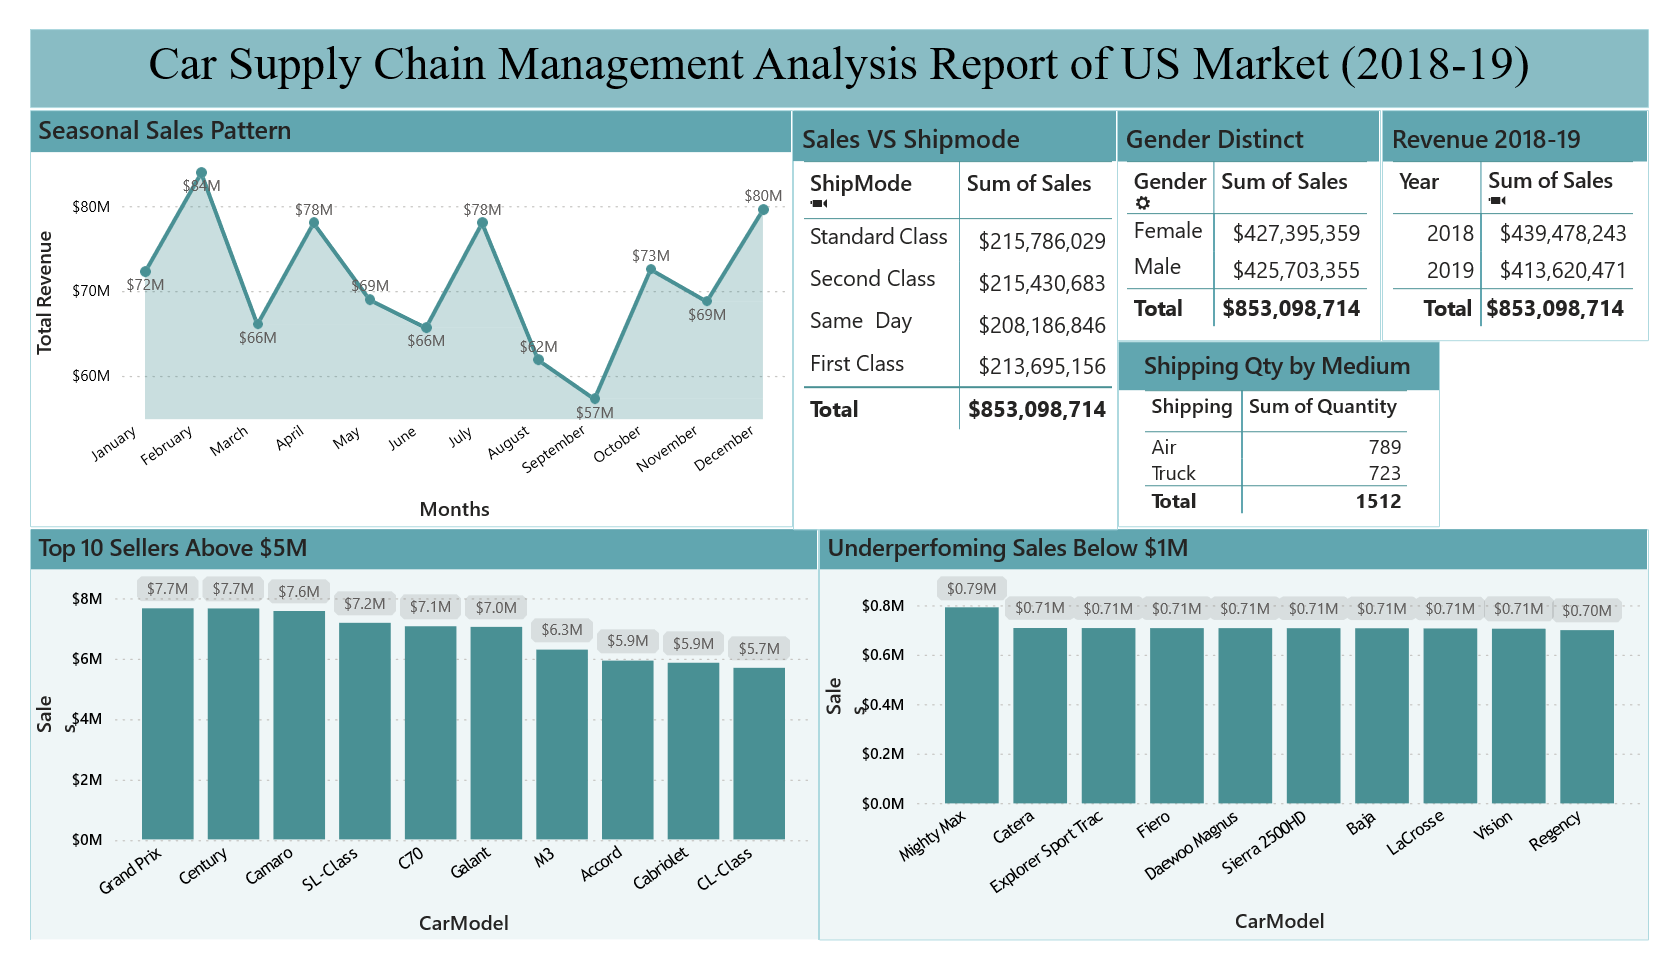

The page's visual inventory and layout, read from the dashboard file:
{"tool":"powerbi","page":{"name":"Sales","canvas":[1280,720],"ordinal":0},"visuals":[{"type":"tableEx","title":"Revenue 2018-19","fields":{"Values":["CarSupplyChainManagement DataSe.OrderDate.Variation.Date Hierarchy.Year","Sum(CarSupplyChainManagement DataSe.Sales)"]},"box":[1068.6,63.8,211.4,183],"z":0},{"type":"textbox","box":[0,0,1280,62.7],"z":1000},{"type":"lineChart","title":"Seasonal Sales Pattern","fields":{"Category":["CarSupplyChainManagement DataSe.OrderDate.Variation.Date Hierarchy.Month"],"Y":["Sum(CarSupplyChainManagement DataSe.Sales)"]},"box":[0,63.8,603.4,330.6],"z":2000},{"type":"clusteredColumnChart","title":"Top 10 Sellers Above $5M","fields":{"Y":["Sum(CarSupplyChainManagement DataSe.Sales)"],"Category":["CarSupplyChainManagement DataSe.CarModel"]},"box":[0,394.7,623.8,326.2],"z":3000},{"type":"clusteredColumnChart","title":"Underperfoming Sales Below $1M","fields":{"Y":["Sum(CarSupplyChainManagement DataSe.Sales)"],"Category":["CarSupplyChainManagement DataSe.CarModel"]},"box":[623.8,394.7,656.2,325],"z":4000},{"type":"tableEx","title":"Gender Distinct","fields":{"Values":["CarSupplyChainManagement DataSe.Gender","Sum(CarSupplyChainManagement DataSe.Sales)"]},"box":[859.1,63.5,209.2,183],"z":5000},{"type":"tableEx","title":"Sales VS Shipmode","fields":{"Values":["CarSupplyChainManagement DataSe.ShipMode","Sum(CarSupplyChainManagement DataSe.Sales)"]},"box":[603.4,63.8,256.2,331.8],"z":6000},{"type":"tableEx","title":"Shipping Qty by Medium","fields":{"Values":["CarSupplyChainManagement DataSe.Shipping","Sum(CarSupplyChainManagement DataSe.Quantity)"]},"box":[859.6,246.8,255.1,147.6],"z":7000}]}

Visuals, with their boxes in screenshot pixels (x1, y1, x2, y2), scaled from the page's 1280x720 canvas onto the 1679x969 screenshot:
"Revenue 2018-19" tableEx: crop(1402, 86, 1678, 332)
textbox: crop(0, 0, 1678, 84)
"Seasonal Sales Pattern" lineChart: crop(0, 86, 791, 531)
"Top 10 Sellers Above $5M" clusteredColumnChart: crop(0, 531, 818, 968)
"Underperfoming Sales Below $1M" clusteredColumnChart: crop(818, 531, 1678, 968)
"Gender Distinct" tableEx: crop(1127, 85, 1401, 332)
"Sales VS Shipmode" tableEx: crop(791, 86, 1128, 532)
"Shipping Qty by Medium" tableEx: crop(1128, 332, 1462, 531)
